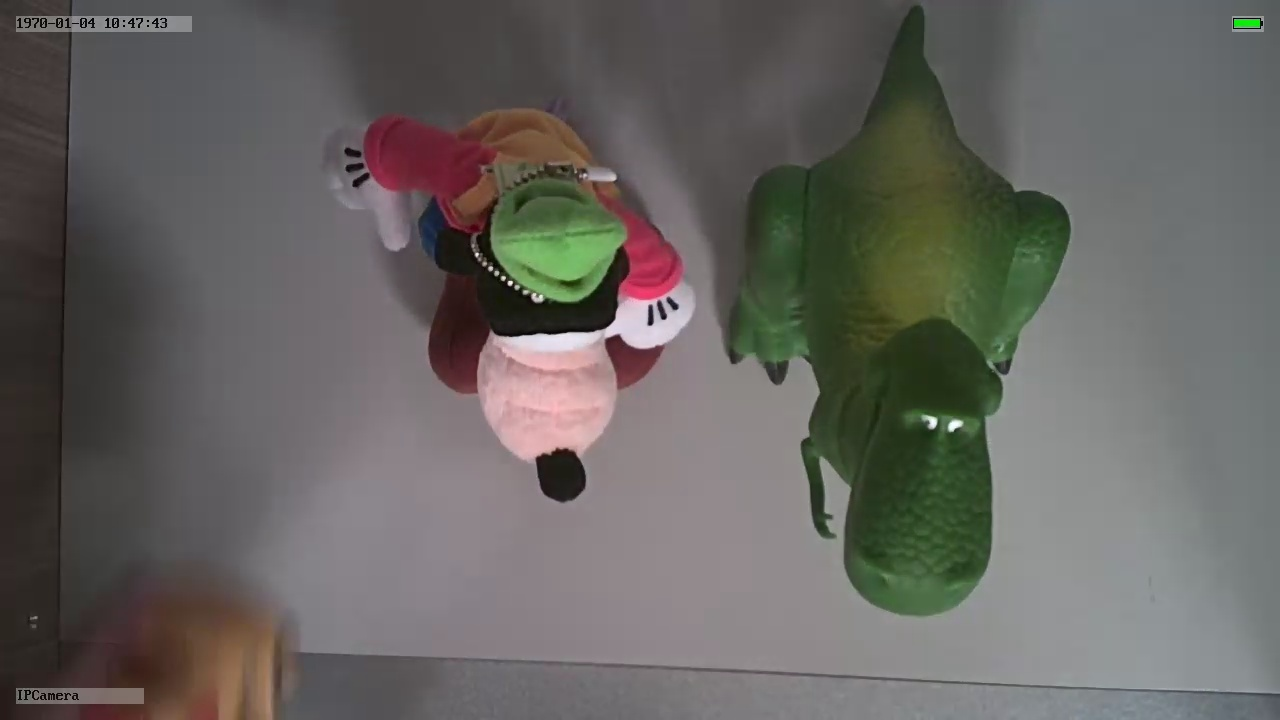goofy: (323, 98, 697, 507)
rex: (723, 87, 1073, 617)
